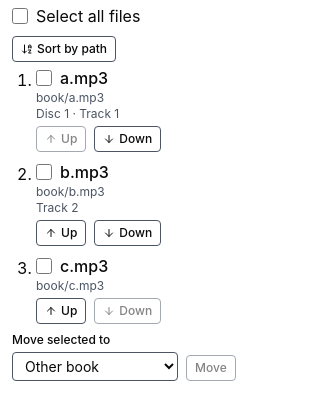
Scenario: GroupFiles › moving selected files › "Select all files" selects every file and shows mixed after one is unticked
Step 1. Click the checkbox labelled "Select all files" → click(20, 16), box [12, 8, 28, 24]
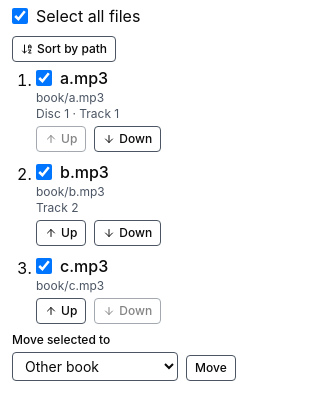
Expected: the checkbox labelled "Select all files" is checked, [12, 8, 28, 24]
Expected: the checkbox named "Select a.mp3" is checked, [36, 70, 52, 86]
Expected: the checkbox named "Select b.mp3" is checked
Step 2. Click the checkbox named "Select b.mp3" → click(44, 172), box [36, 164, 52, 180]
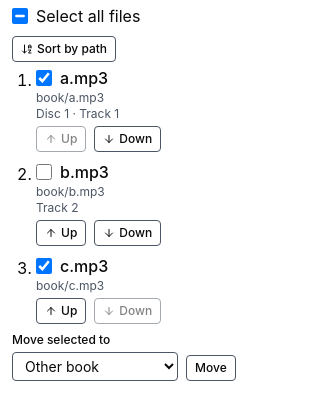
Step 3. Click the checkbox labelled "Select all files" → click(20, 16), box [12, 8, 28, 24]
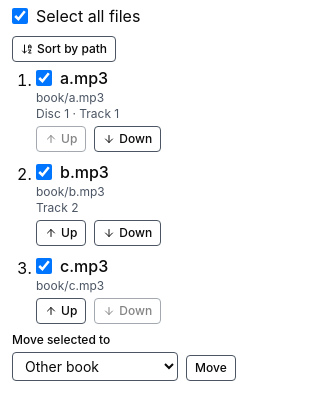
Expected: the checkbox named "Select b.mp3" is checked, [36, 164, 52, 180]
Expected: the checkbox named "Select a.mp3" is checked, [36, 70, 52, 86]
Expected: the checkbox named "Select c.mp3" is checked, [36, 258, 52, 274]
Step 4. Click the checkbox labelled "Select all files" → click(20, 16), box [12, 8, 28, 24]
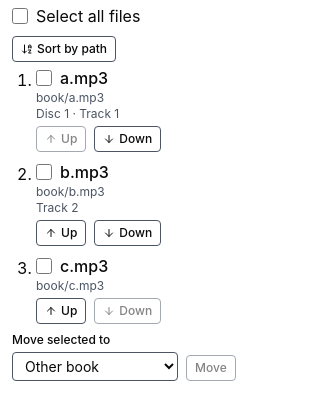
Expected: the checkbox named "Select b.mp3" is not checked, [36, 164, 52, 180]
Expected: the checkbox named "Select a.mp3" is not checked, [36, 70, 52, 86]
Expected: the checkbox named "Select c.mp3" is not checked, [36, 258, 52, 274]
